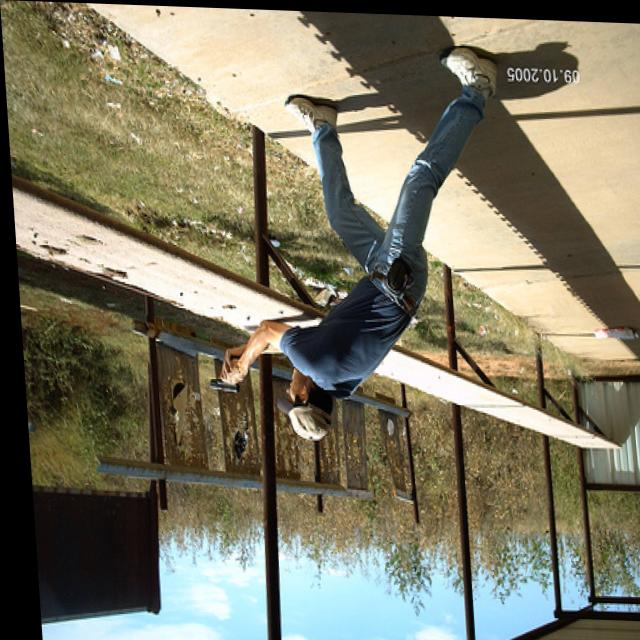handgun: (205, 352, 237, 397)
